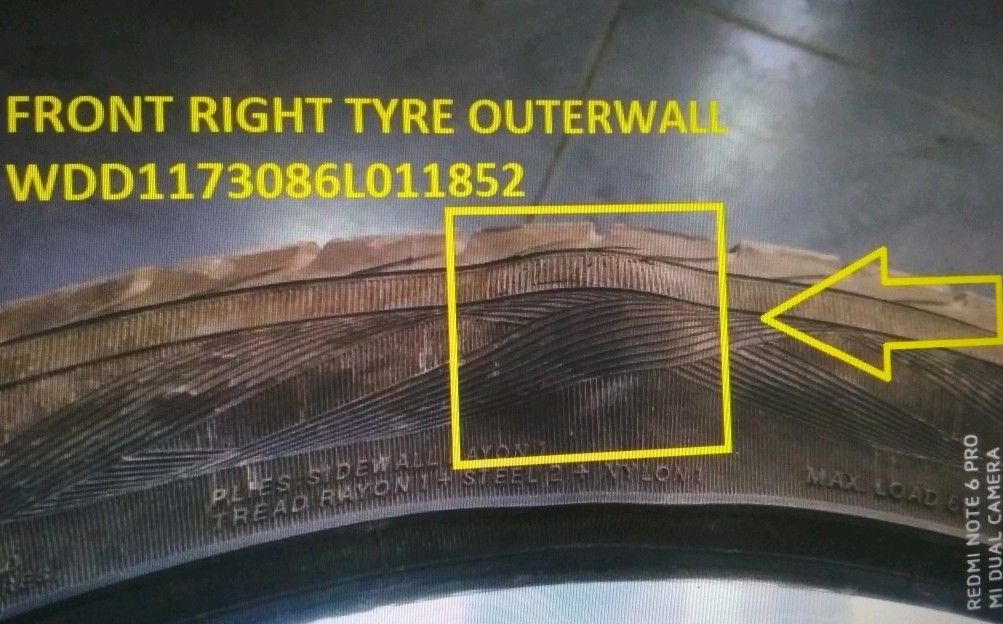CBU: (489, 223, 688, 381)
